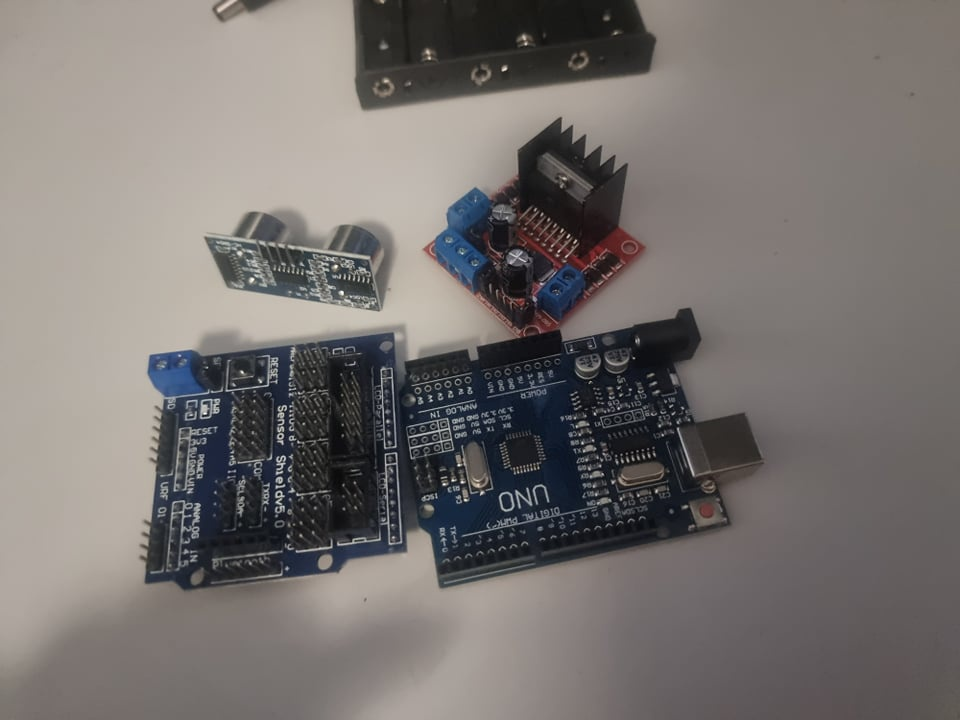5V EXPANSION: (140, 332, 399, 597)
BATTERY BOX: (325, 1, 665, 110)
MOTOR: (419, 117, 648, 335)
SENSOR: (201, 211, 385, 315)
UNO R3: (402, 303, 769, 596)
